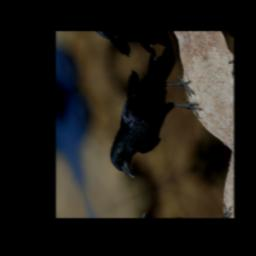Crow: (87, 39, 214, 188)
